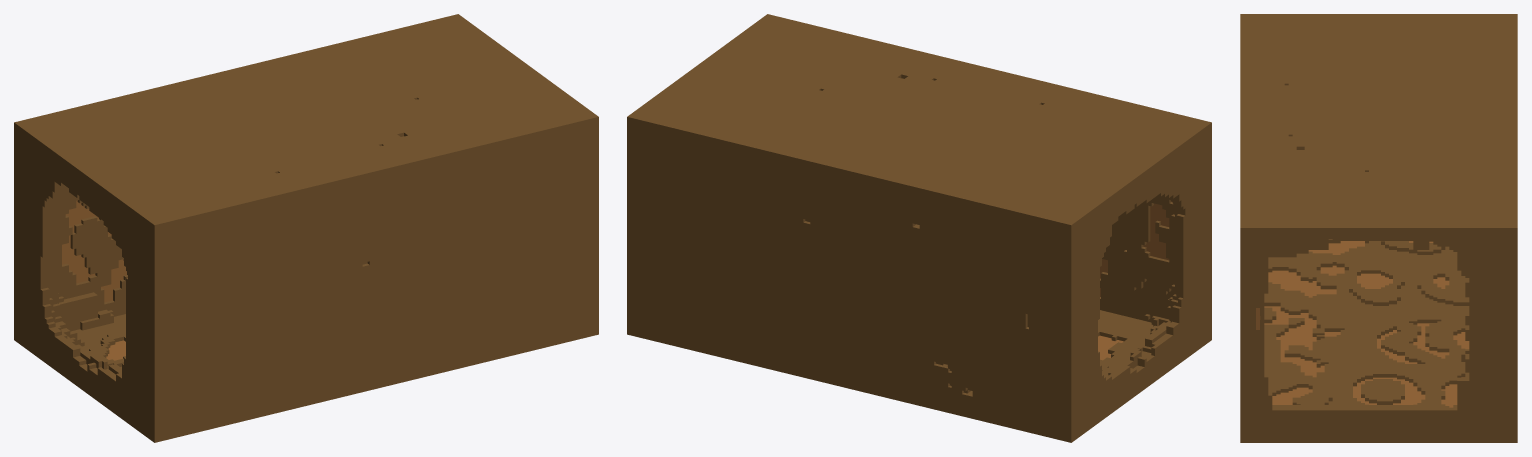
3 renders of one model, left to right at view 1: azimuth 30°, elevation 25°; view 2: azimuth 150°, elevation 25°; view 3: azimuth 270°, elevation 25°, orthographic.
Parts seen in each view (by area): view 1: exported.level_1_template_v2; view 2: exported.level_1_template_v2; view 3: exported.level_1_template_v2.
Part boxes in pixels (x1,y1,x2,y2): exported.level_1_template_v2: (14, 14, 598, 442); exported.level_1_template_v2: (627, 14, 1211, 442); exported.level_1_template_v2: (1240, 14, 1517, 442).
Bounding box in the file's own units: 12.6 × 5.9 × 6.9.
1 material, 1 textured.
